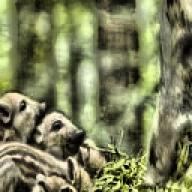boar: (0, 90, 105, 192), (141, 0, 192, 192)
